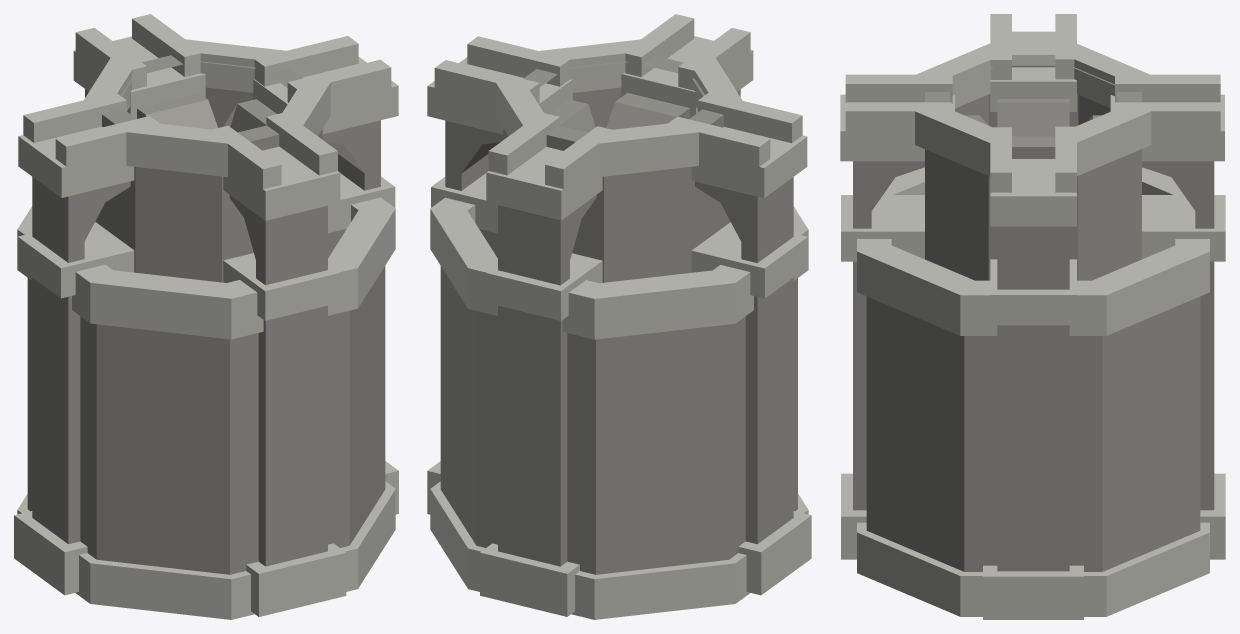
Rendered from reservoir.fbx.
3 views of the same model, side by side, from view 1: azimuth 30°, elevation 25°; view 2: azimuth 150°, elevation 25°; view 3: azimuth 270°, elevation 25° (orthographic).
Visible parts, largest first — view 1: polySurface328; view 2: polySurface328; view 3: polySurface328.
Part boxes in pixels (x1,y1,x2,y2): polySurface328: (14,14,398,619); polySurface328: (427,14,811,619); polySurface328: (840,14,1225,619).
Bounding box in the file's own units: 108 × 137 × 107.
1 material, 1 textured.
